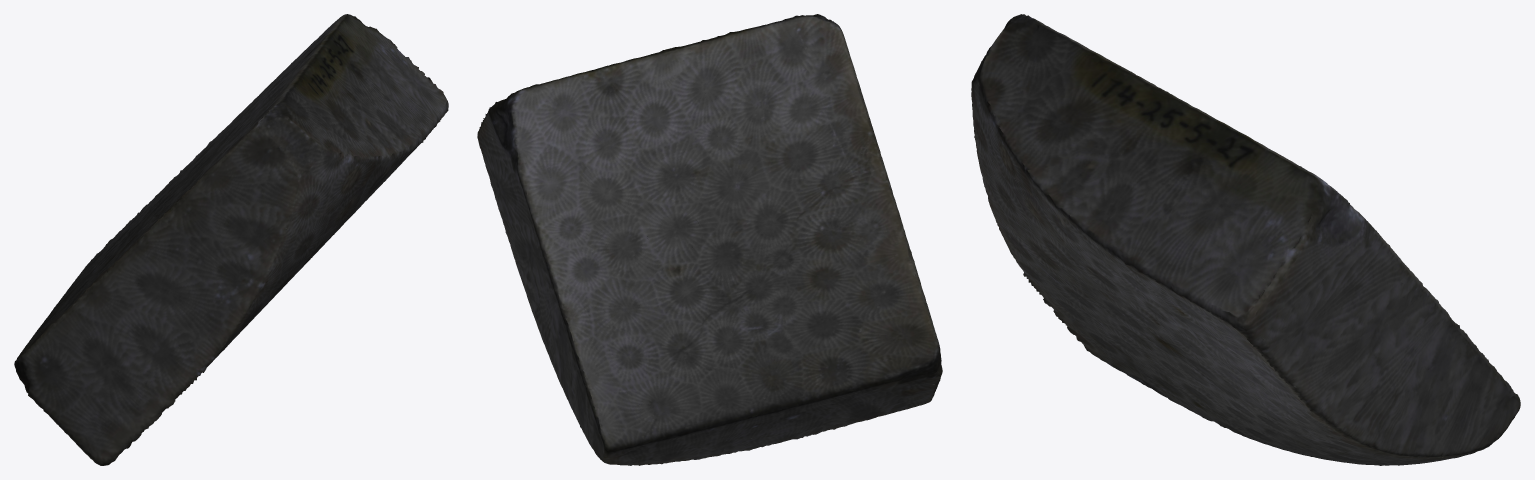
File: Coral_block.glb
3 views of the same model, side by side, from view 1: azimuth 30°, elevation 25°; view 2: azimuth 150°, elevation 25°; view 3: azimuth 270°, elevation 25° (orthographic). The views are drawn at different scales.
Size of the model in its own units: 1.37 by 1.06 by 1.17.
Materials: 1 (1 with a texture image).
